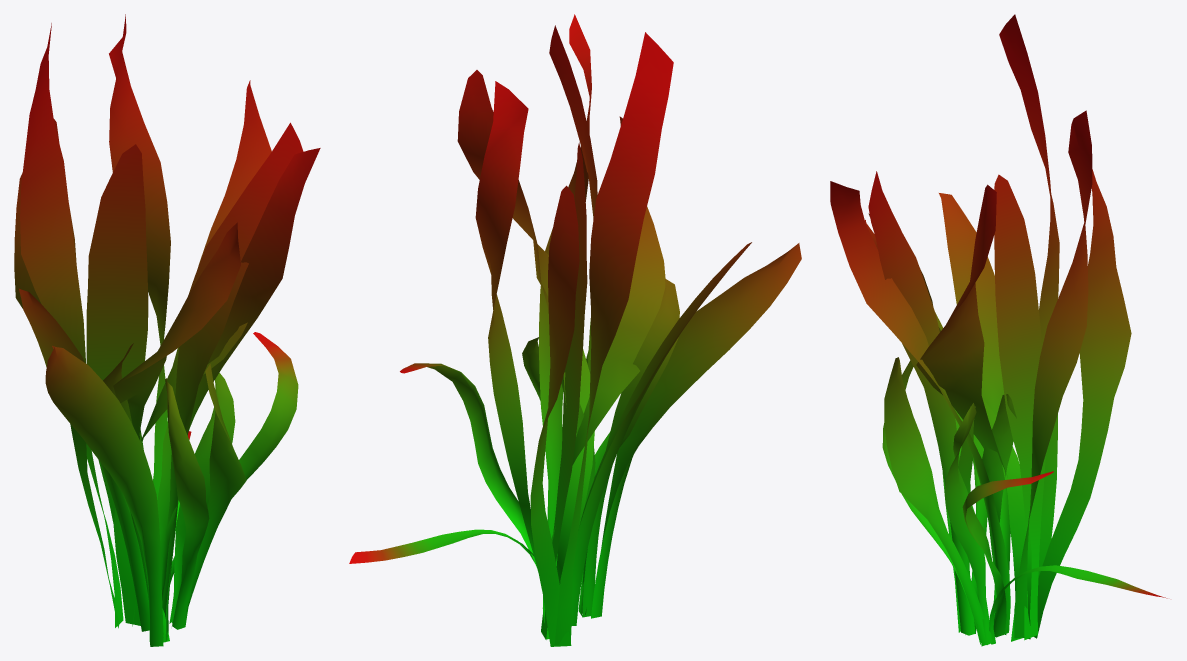
The model's file is Snake Plant_LOD0_Var4_sgtmY.fbx.
3 renders of one model, left to right at view 1: azimuth 30°, elevation 25°; view 2: azimuth 150°, elevation 25°; view 3: azimuth 270°, elevation 25°, orthographic. The views are drawn at different scales.
Visible parts, largest first — view 1: _8700_Var4_LOD0; view 2: _8700_Var4_LOD0; view 3: _8700_Var4_LOD0.
Boxes of the visible parts, x1,y1,x2,y2 form: _8700_Var4_LOD0: [14, 14, 320, 646]; _8700_Var4_LOD0: [349, 14, 801, 646]; _8700_Var4_LOD0: [830, 14, 1167, 646].
Size of the model in its own units: 59.8 by 114 by 60.19.
